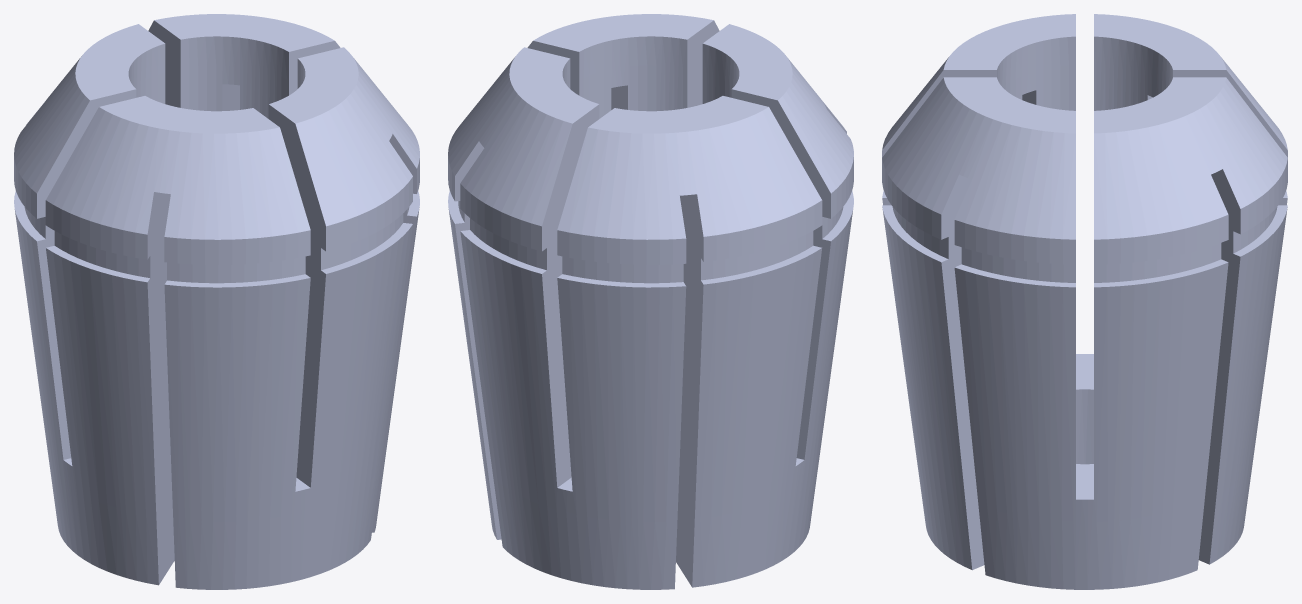
File: Collet Chuck.fbx
The picture shows the model from 3 angles, left to right: view 1: azimuth 30°, elevation 25°; view 2: azimuth 150°, elevation 25°; view 3: azimuth 270°, elevation 25°; orthographic projection.
Size of the model in its own units: 11.45 by 13.99 by 11.45.
